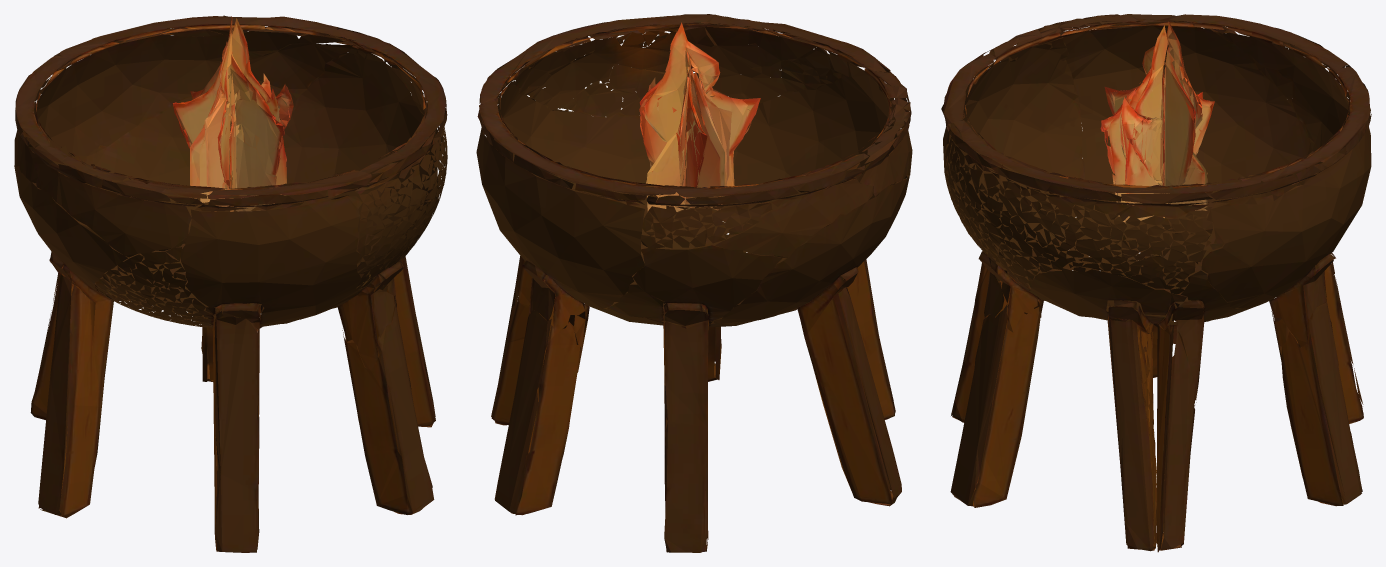
Rendered from brazier.glb.
The picture shows the model from 3 angles, left to right: view 1: azimuth 30°, elevation 25°; view 2: azimuth 150°, elevation 25°; view 3: azimuth 270°, elevation 25°; orthographic projection.
Parts seen in each view (by area): view 1: material; view 2: material; view 3: material.
Part boxes in pixels (left/top/right/bottom): material: left=14, top=15, right=447, bottom=552; material: left=476, top=14, right=912, bottom=552; material: left=941, top=14, right=1371, bottom=552.
Size of the model in its own units: 0.8571 by 0.9195 by 0.8146.
1 material, 1 textured.
